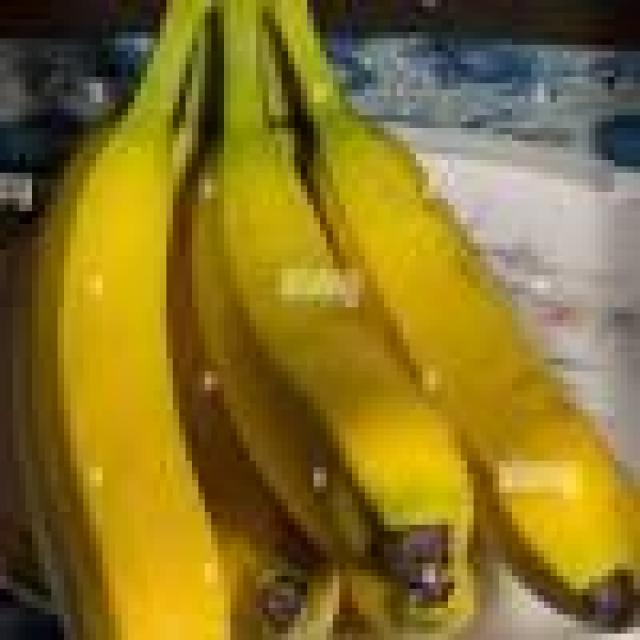Banana: (266, 2, 640, 607), (42, 0, 262, 639)
